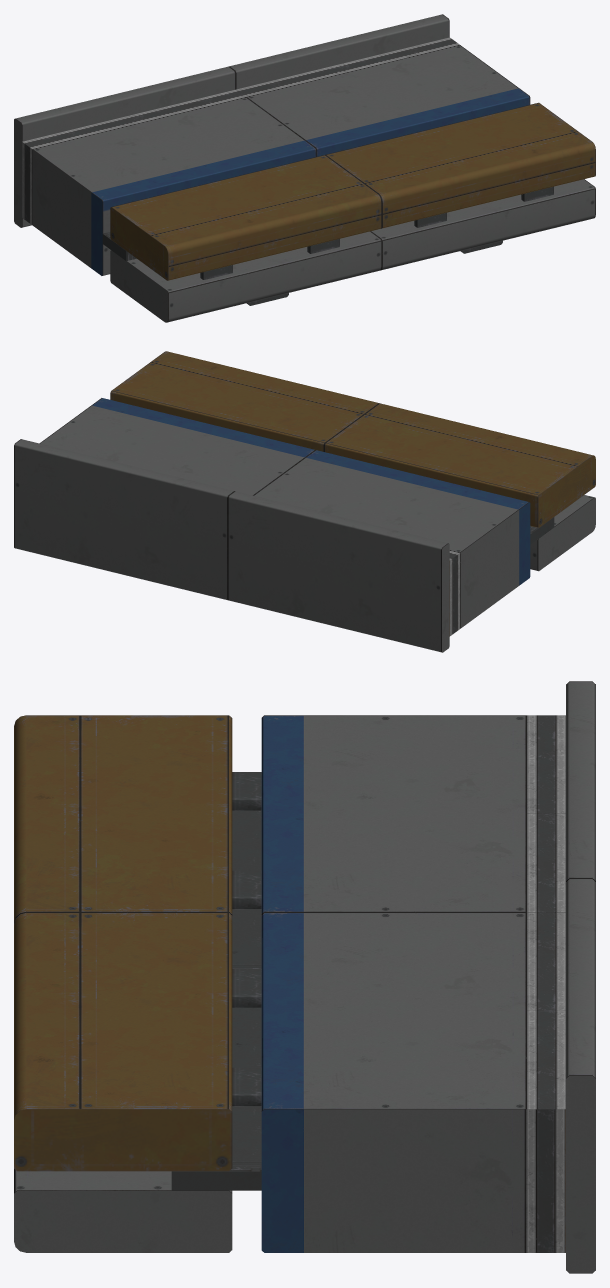
File: Subway_wall_edge1.fbx
The picture shows the model from 3 angles, top to bottom: view 1: azimuth 30°, elevation 25°; view 2: azimuth 150°, elevation 25°; view 3: azimuth 270°, elevation 25°; orthographic projection. The views are drawn at different scales.
Parts seen in each view (by area): view 1: polySurface887; view 2: polySurface887; view 3: polySurface887.
Boxes of the visible parts, x1=… form: polySurface887: x1=14, y1=14, x2=595, y2=322; polySurface887: x1=14, y1=351, x2=595, y2=652; polySurface887: x1=14, y1=681, x2=595, y2=1273.
Bounding box in the file's own units: 400 × 93.77 × 250.
